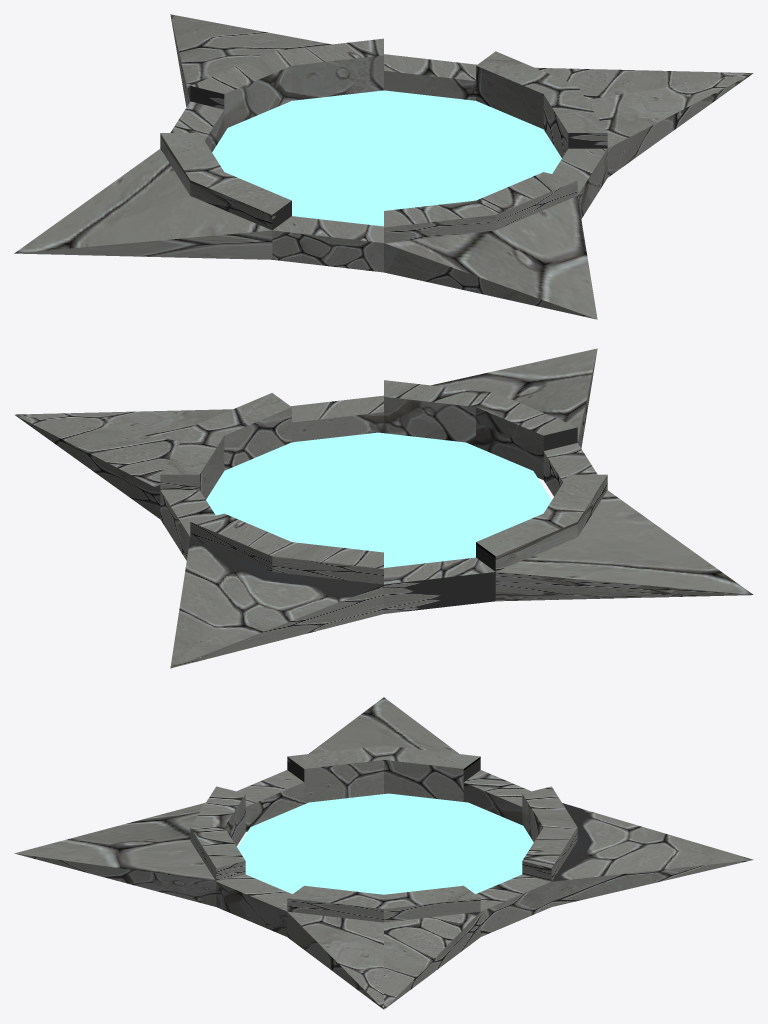
Rendered from checkpoint3_0.fbx.
The picture shows the model from 3 angles, top to bottom: view 1: azimuth 30°, elevation 25°; view 2: azimuth 150°, elevation 25°; view 3: azimuth 270°, elevation 25°; orthographic projection. The views are drawn at different scales.
Parts seen in each view (by area): view 1: Cilindro, Cilindro.001; view 2: Cilindro, Cilindro.001; view 3: Cilindro, Cilindro.001.
Part boxes in pixels (<box>): Cilindro: <box>14,14,753,319</box>; Cilindro.001: <box>212,90,561,226</box>; Cilindro: <box>14,348,753,668</box>; Cilindro.001: <box>206,432,551,567</box>; Cilindro: <box>14,697,753,1009</box>; Cilindro.001: <box>237,793,533,894</box>.
Size of the model in its own units: 382 by 22.3 by 382.
